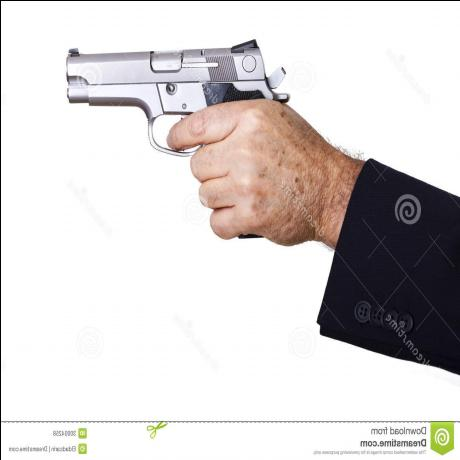1: (165, 96, 460, 392)
weapon: (57, 25, 290, 242)
